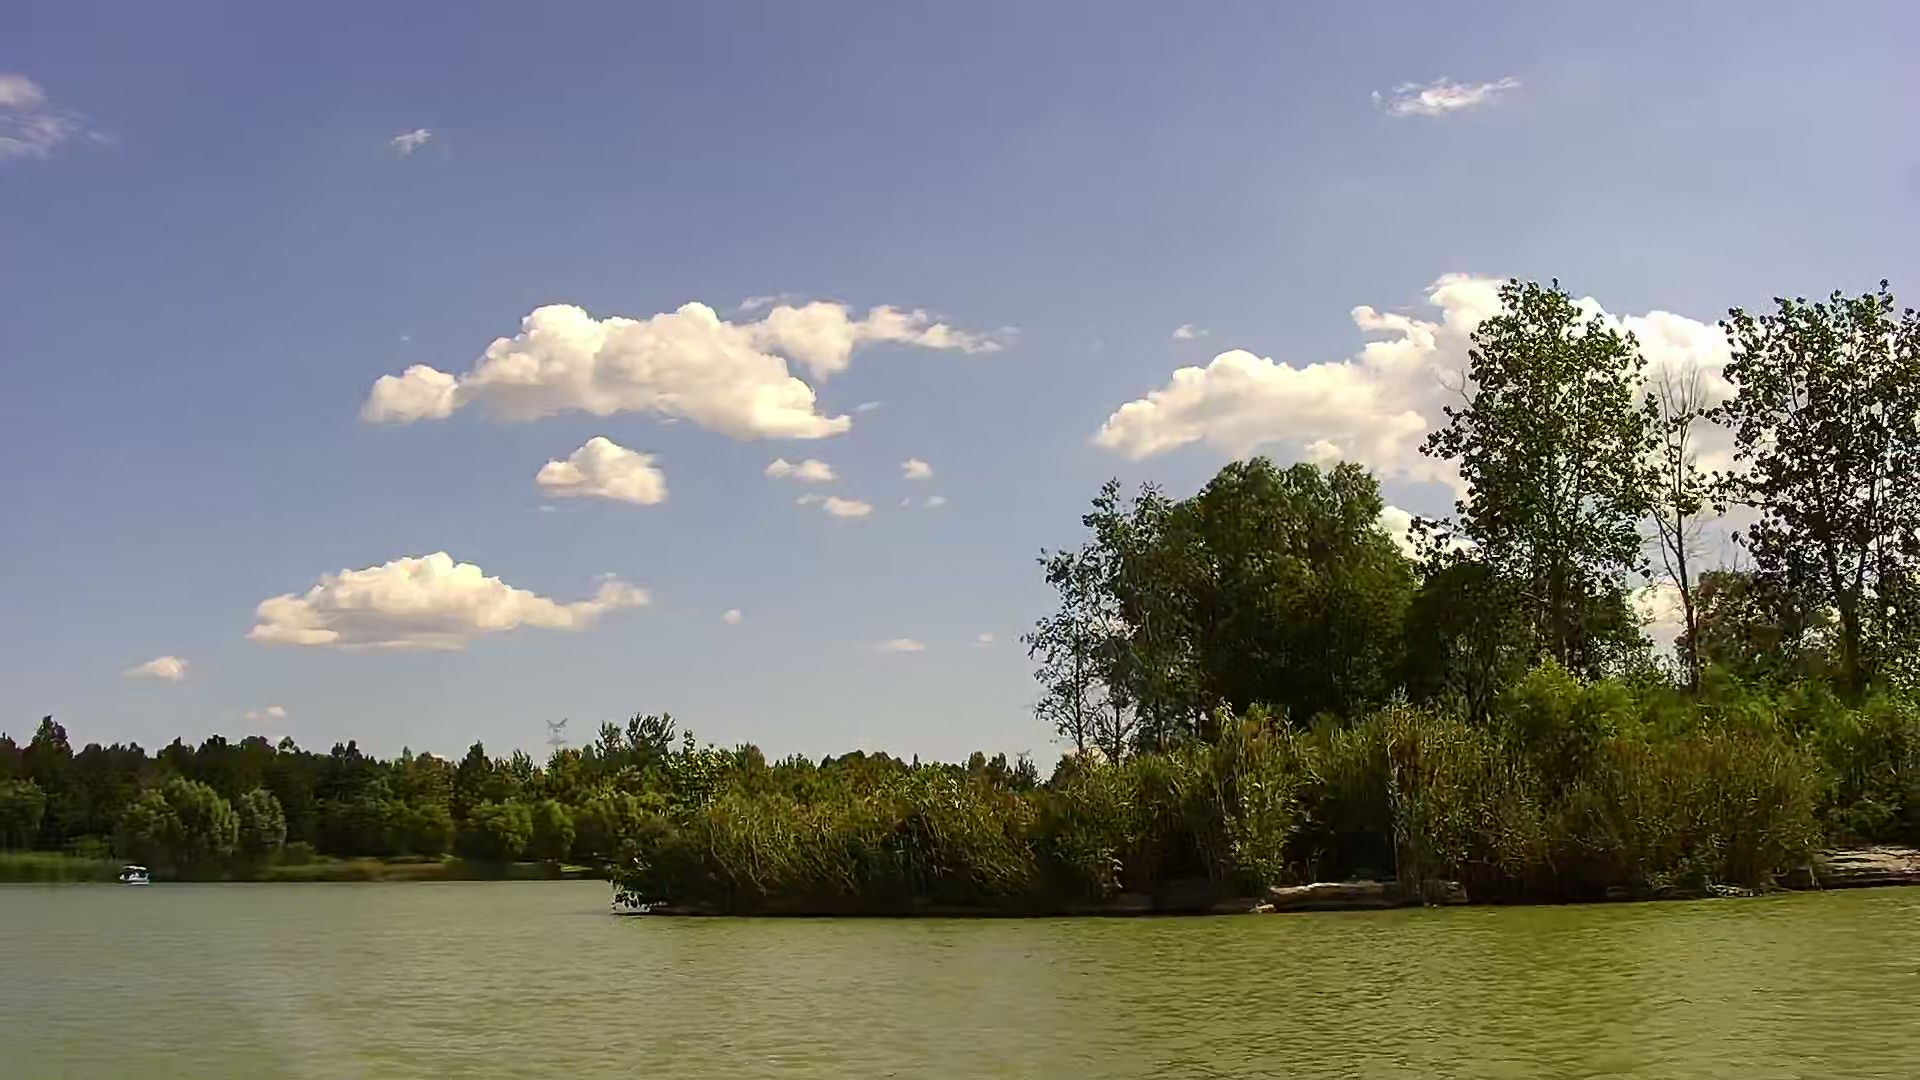boat: (117, 864, 152, 884)
